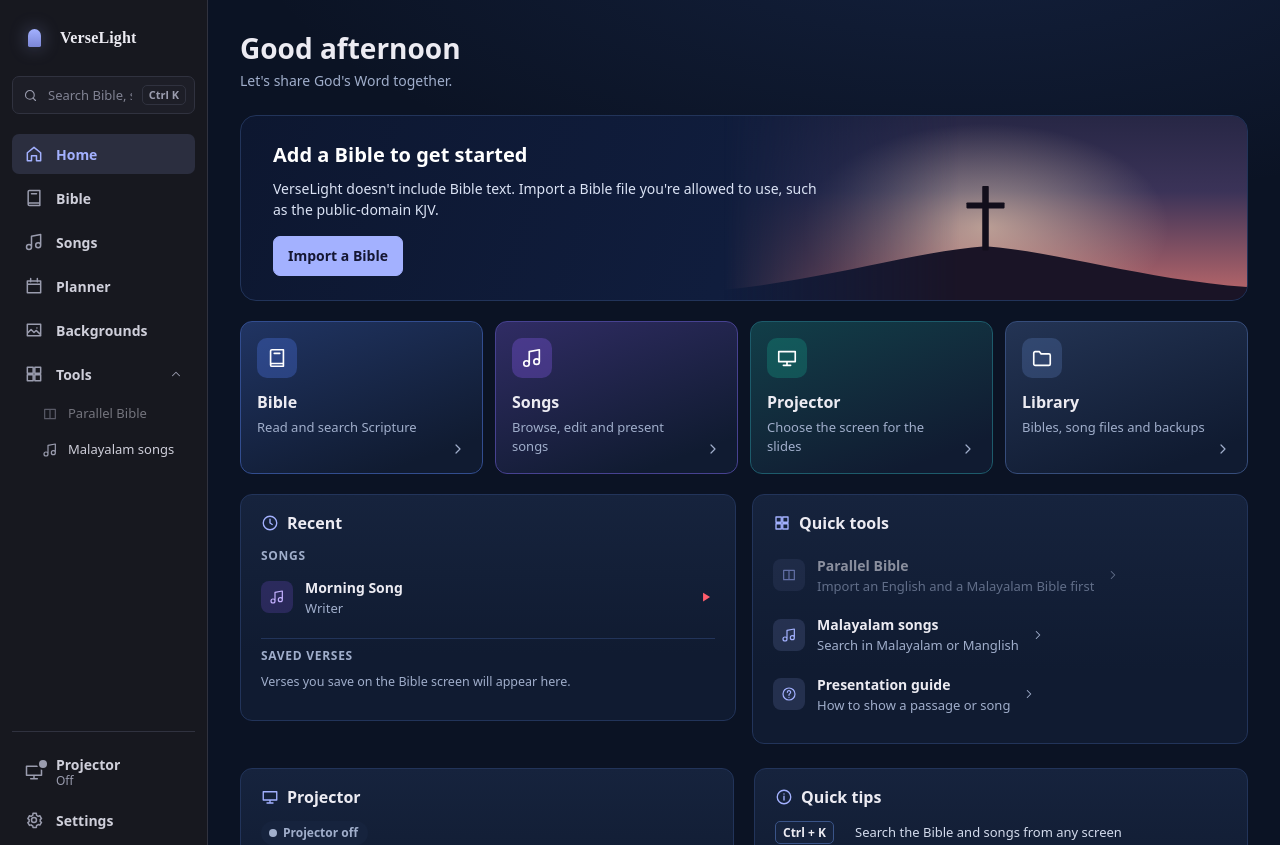
presenting a song › records the song as recently used for Home
This screenshot has width=1280, height=845.
Click the button "Songs": (104,242) [12,222,195,262]
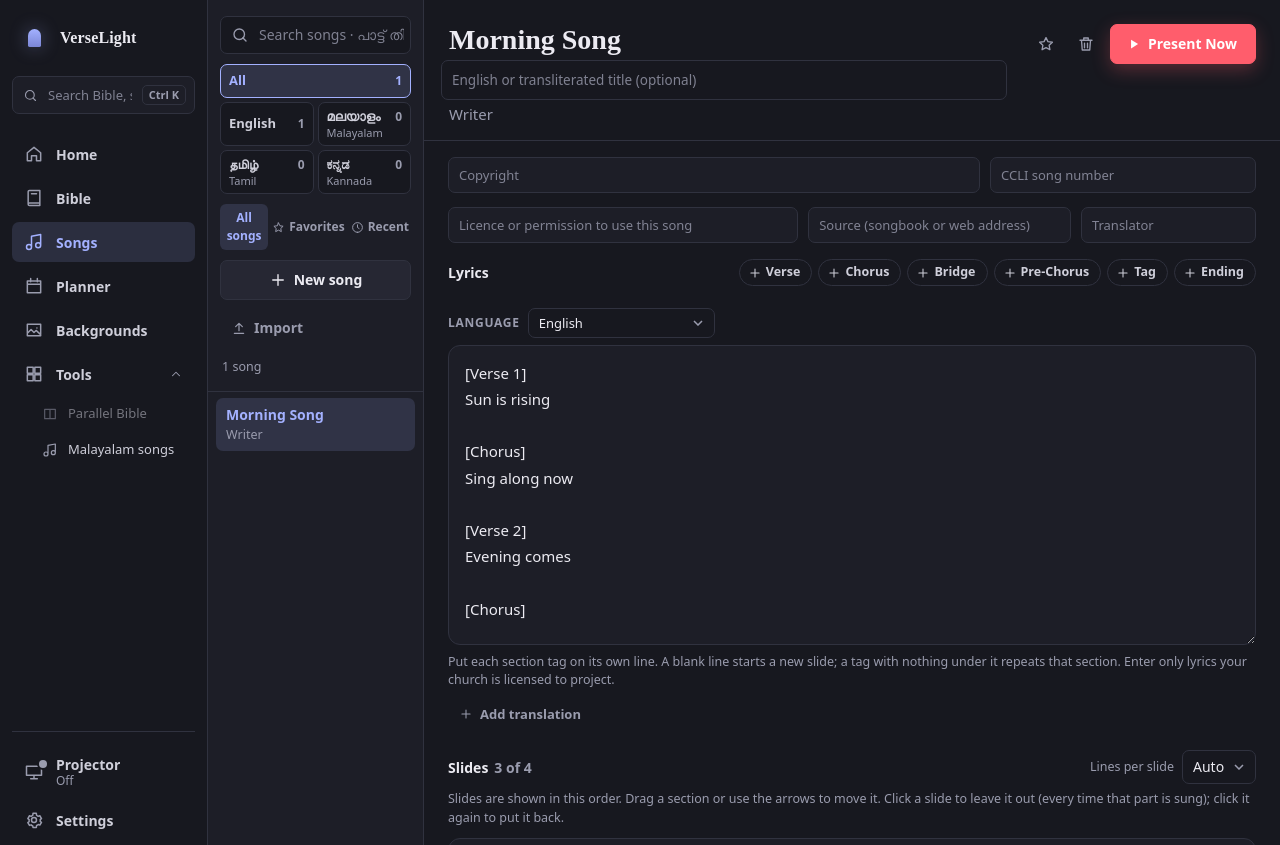
Click the button "Present Now": (1183,44) [1110,24,1256,64]
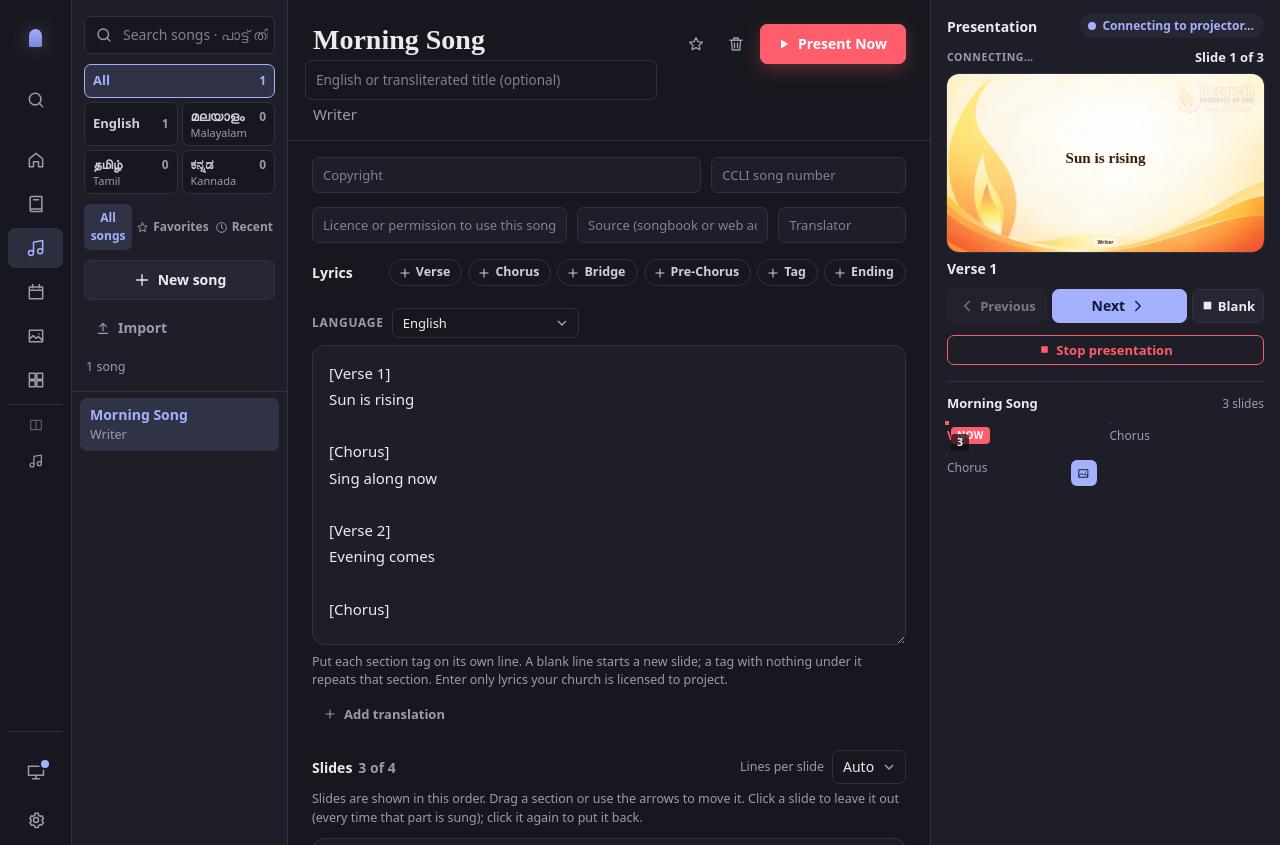
Click the button named "Home": (36,160) [8,140,63,180]
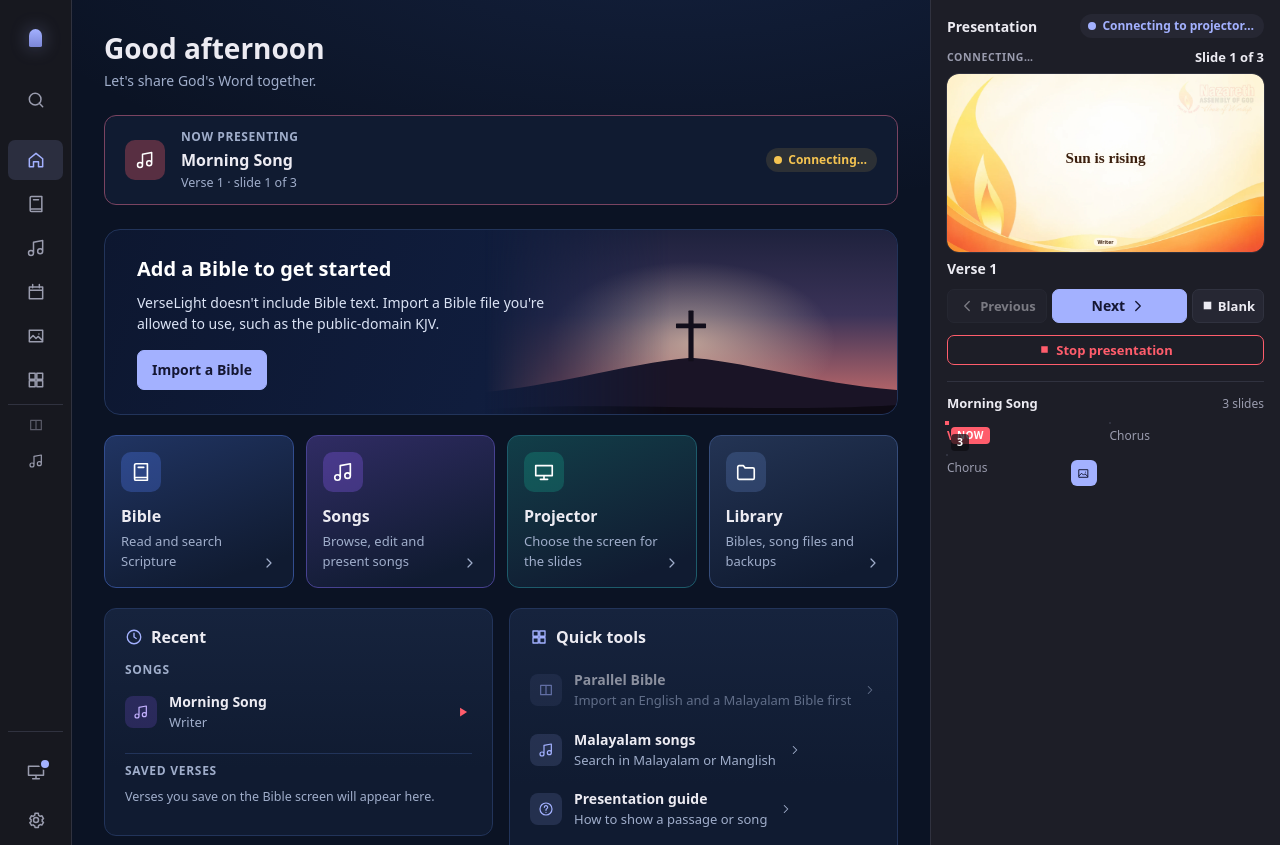
Result: the text "Morning Song" below "Recent" is shown at [169,692,267,711]
